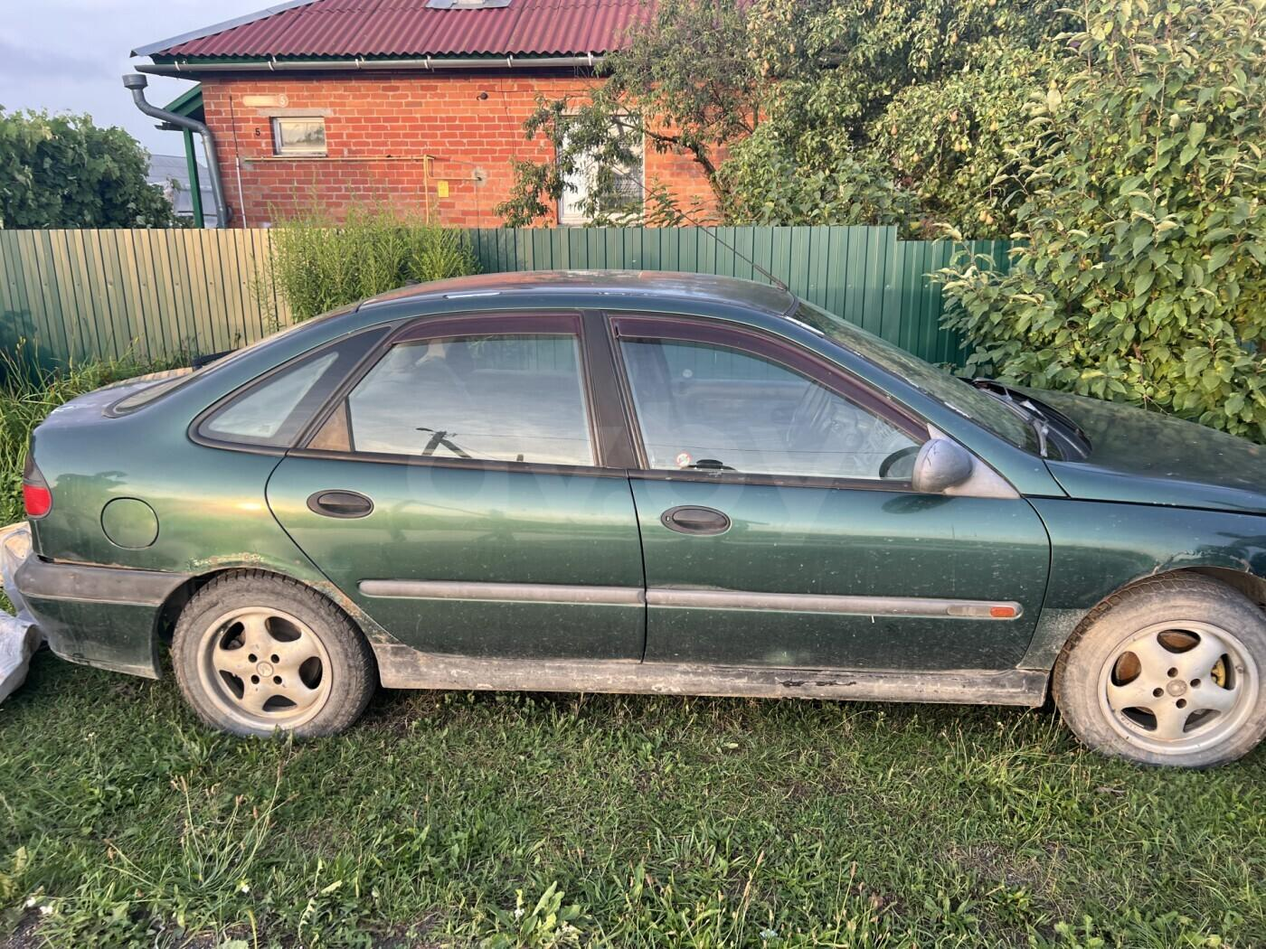Lahuna_1993-1999: (16, 253, 1266, 785)
